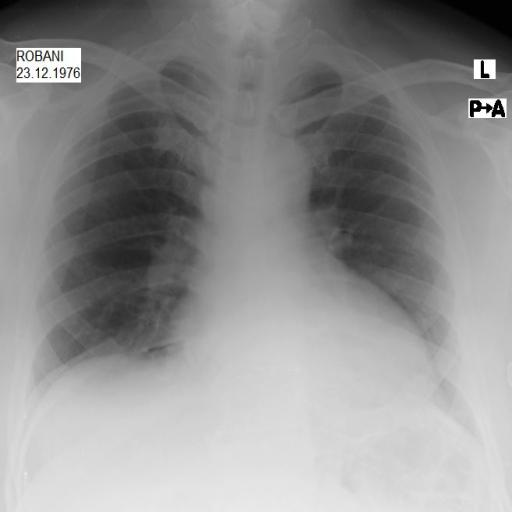kardiomegali: (14, 24, 492, 462)
